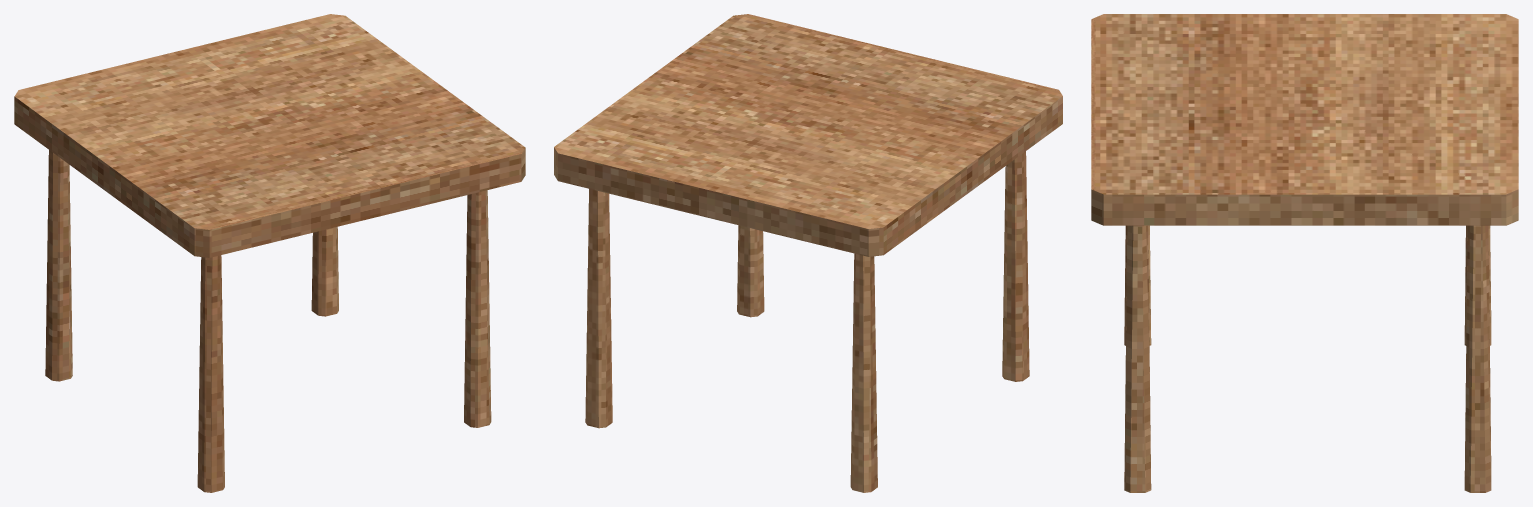
Rendered from table.fbx.
3 renders of one model, left to right at view 1: azimuth 30°, elevation 25°; view 2: azimuth 150°, elevation 25°; view 3: azimuth 270°, elevation 25°, orthographic. The views are drawn at different scales.
Parts seen in each view (by area): view 1: table; view 2: table; view 3: table.
Part boxes in pixels (box(x1,y1,x2,y2)): table: box(14, 14, 525, 492); table: box(554, 14, 1062, 492); table: box(1091, 14, 1518, 492).
Bounding box in the file's own units: 463 × 372 × 463.
